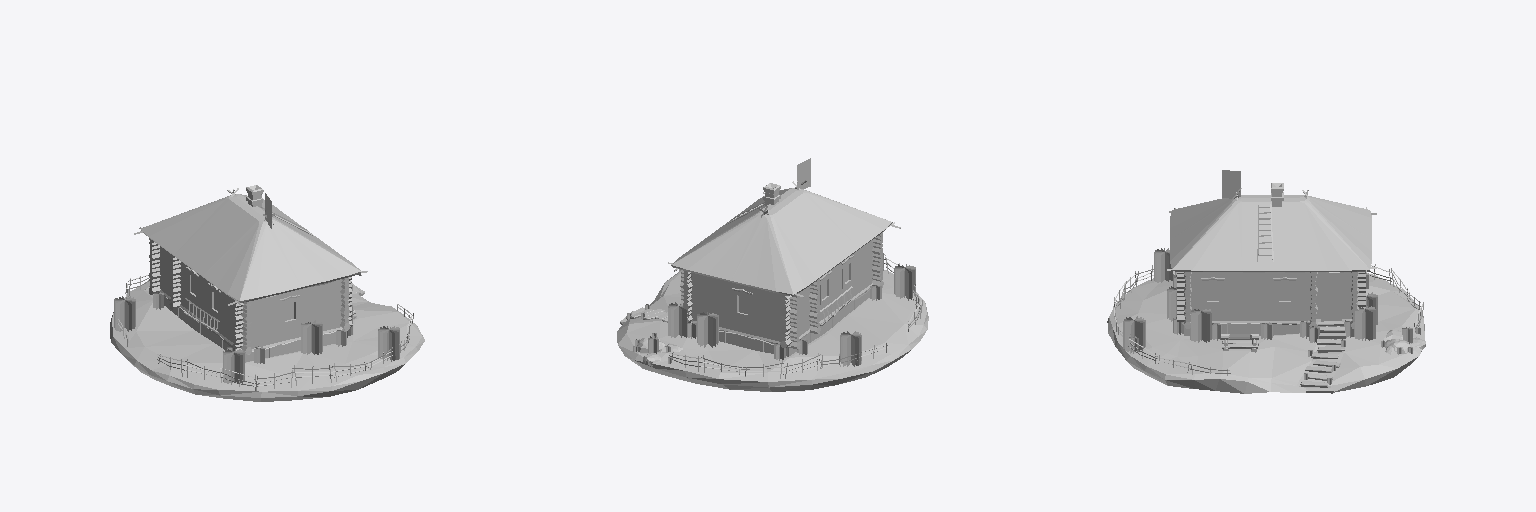
The model's file is hatka_local_.obj.
3 renders of one model, left to right at view 1: azimuth 30°, elevation 25°; view 2: azimuth 150°, elevation 25°; view 3: azimuth 270°, elevation 25°, orthographic.
Visible parts, largest first — view 1: default, _1, _4, _6; view 2: default, _1, _4, _6; view 3: default, _1, _4, _6, _5, _2.
Part boxes in pixels (bbox=[...]): default: bbox=[134, 185, 367, 362]; _1: bbox=[110, 281, 424, 401]; _4: bbox=[114, 285, 399, 384]; _6: bbox=[117, 273, 413, 390]; default: bbox=[668, 180, 900, 356]; _1: bbox=[617, 270, 928, 391]; _4: bbox=[627, 264, 915, 366]; _6: bbox=[669, 253, 922, 378]; default: bbox=[1167, 183, 1376, 344]; _1: bbox=[1107, 272, 1425, 393]; _4: bbox=[1123, 248, 1420, 384]; _6: bbox=[1113, 264, 1423, 375]; _5: bbox=[1300, 347, 1344, 393]; _2: bbox=[1221, 334, 1258, 352].
Bounding box in the file's own units: 1879 × 907 × 2047.